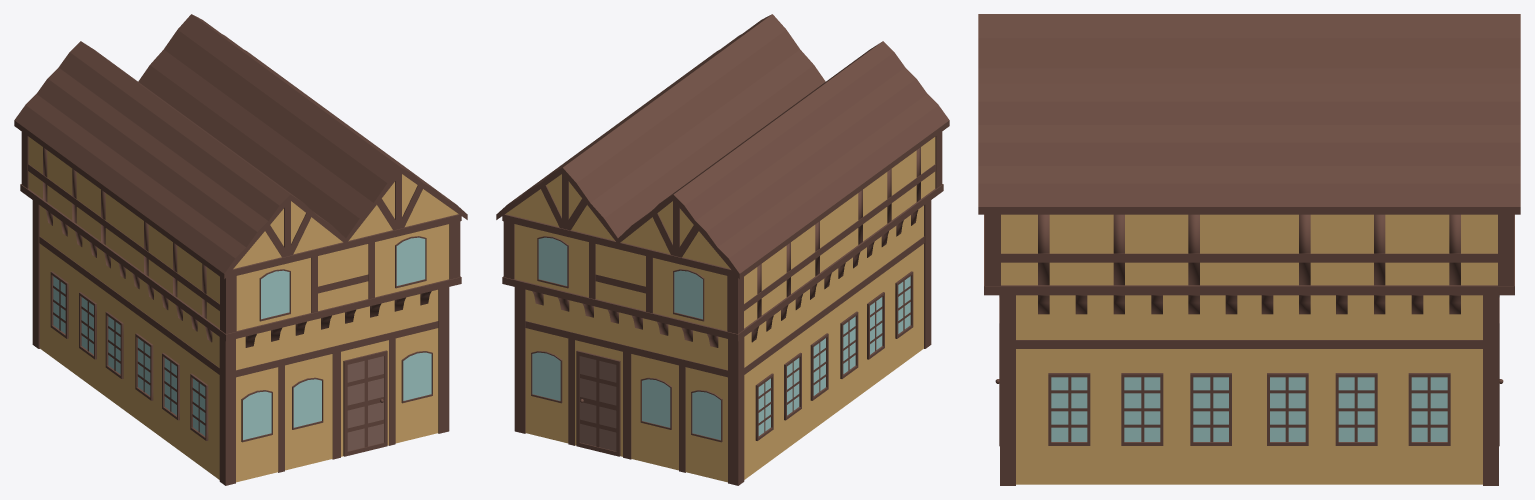
Rendered from DoublePeak.fbx.
3 renders of one model, left to right at view 1: azimuth 30°, elevation 25°; view 2: azimuth 150°, elevation 25°; view 3: azimuth 270°, elevation 25°, orthographic. The views are drawn at different scales.
Visible parts, largest first — view 1: Base; view 2: Base; view 3: Base.
Boxes of the visible parts, x1,y1,x2,y2 form: Base: (14, 14, 467, 485); Base: (496, 14, 949, 485); Base: (978, 14, 1520, 485).
Bounding box in the file's own units: 748 × 834 × 1117.
